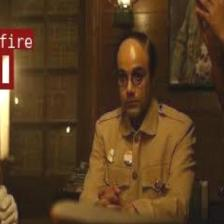fire: (0, 48, 12, 88)
